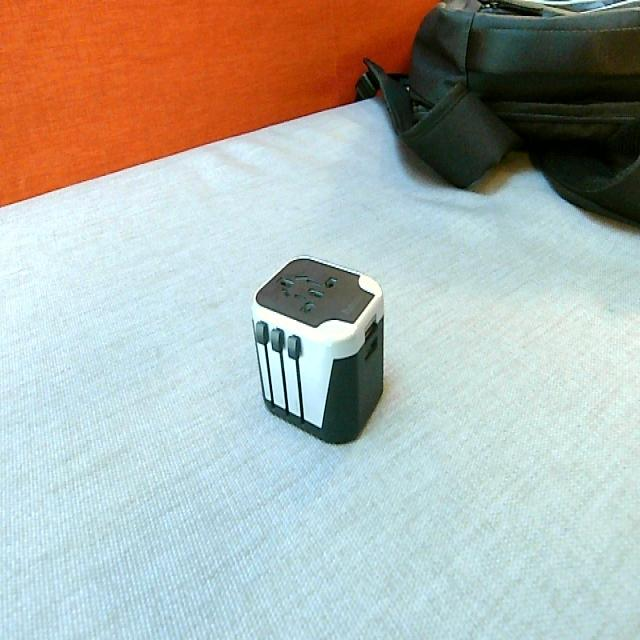adapter: (250, 253, 385, 444)
